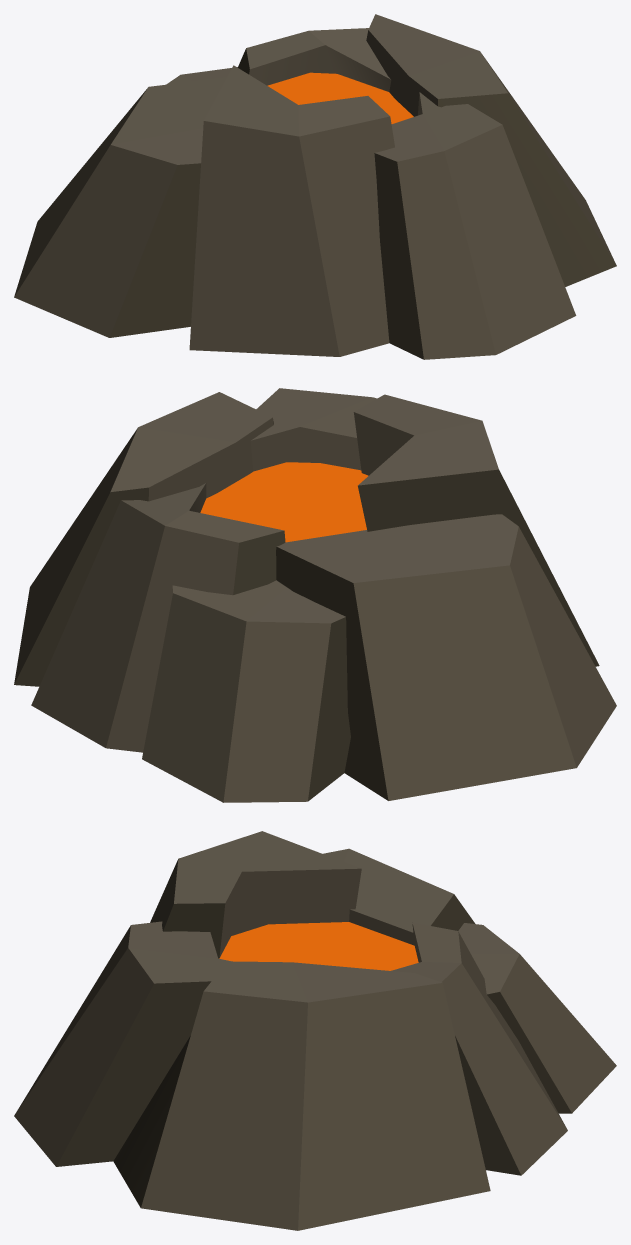
Rendered from SF_Env_Undead_LavaPit_01.fbx.
3 renders of one model, top to bottom at view 1: azimuth 30°, elevation 25°; view 2: azimuth 150°, elevation 25°; view 3: azimuth 270°, elevation 25°, orthographic. The views are drawn at different scales.
Parts seen in each view (by area): view 1: SF_Env_Undead_LavaPit_01; view 2: SF_Env_Undead_LavaPit_01; view 3: SF_Env_Undead_LavaPit_01.
Boxes of the visible parts, left/top/right/bottom form: SF_Env_Undead_LavaPit_01: left=14, top=14, right=616, bottom=359; SF_Env_Undead_LavaPit_01: left=14, top=388, right=616, bottom=802; SF_Env_Undead_LavaPit_01: left=14, top=831, right=616, bottom=1230.
Size of the model in its own units: 7.84 by 2.71 by 7.43.
